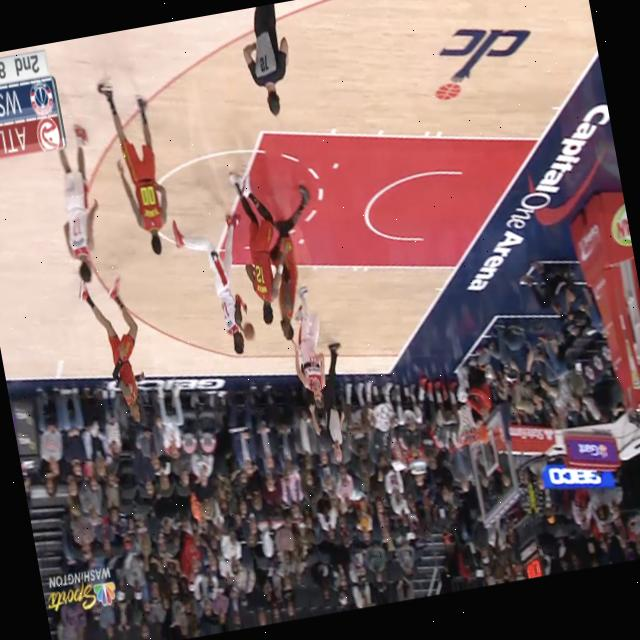no foul: (24, 41, 188, 296), (160, 142, 308, 360), (244, 225, 352, 418)
